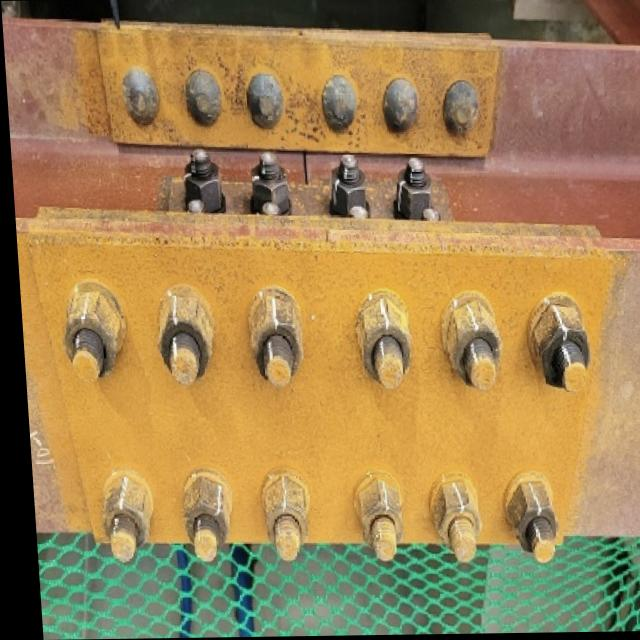Regular bolt: (49, 282, 125, 392), (517, 296, 597, 397), (433, 298, 508, 393), (347, 296, 416, 392), (236, 292, 303, 387), (169, 475, 234, 566), (491, 478, 556, 564), (151, 292, 210, 382), (423, 478, 481, 566), (250, 478, 309, 563), (91, 471, 141, 566), (341, 485, 401, 564)
